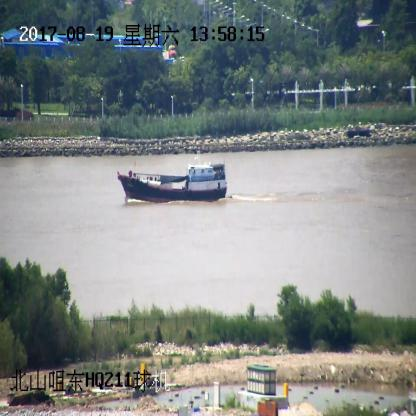Fishing Boat: (118, 158, 227, 202)
